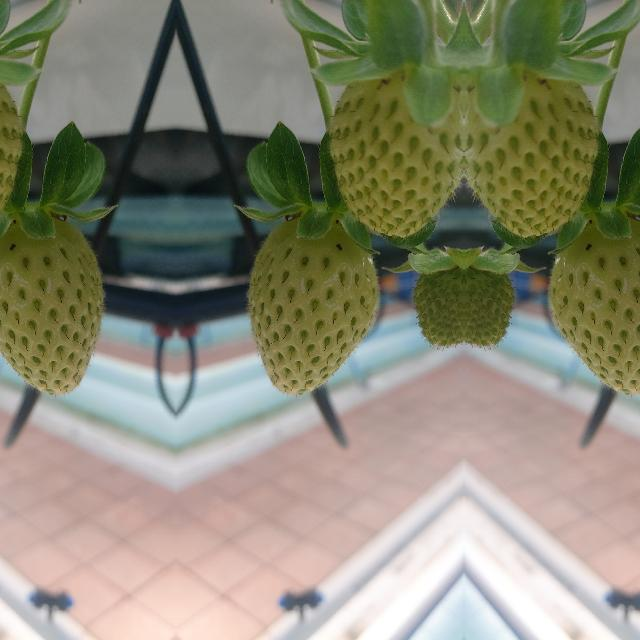Health_25: (318, 52, 462, 236), (464, 52, 608, 236), (246, 217, 376, 396), (0, 216, 104, 395), (550, 216, 640, 395), (406, 246, 462, 354), (464, 246, 520, 354), (0, 51, 32, 236)
